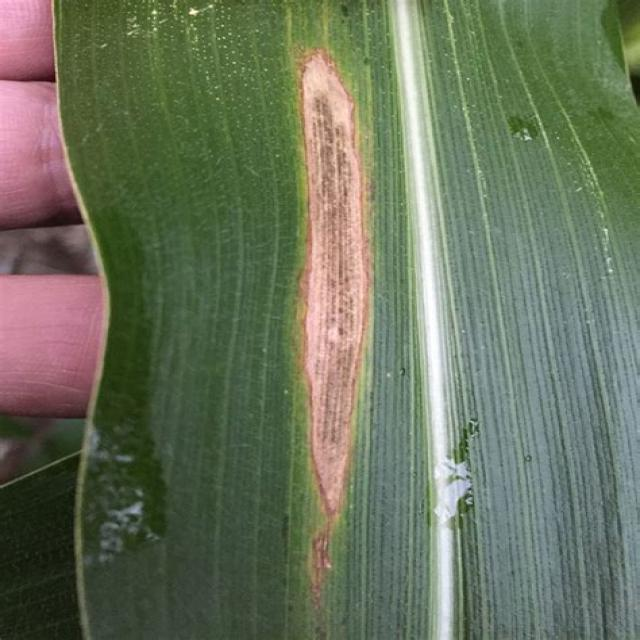blight: (262, 31, 400, 606)
